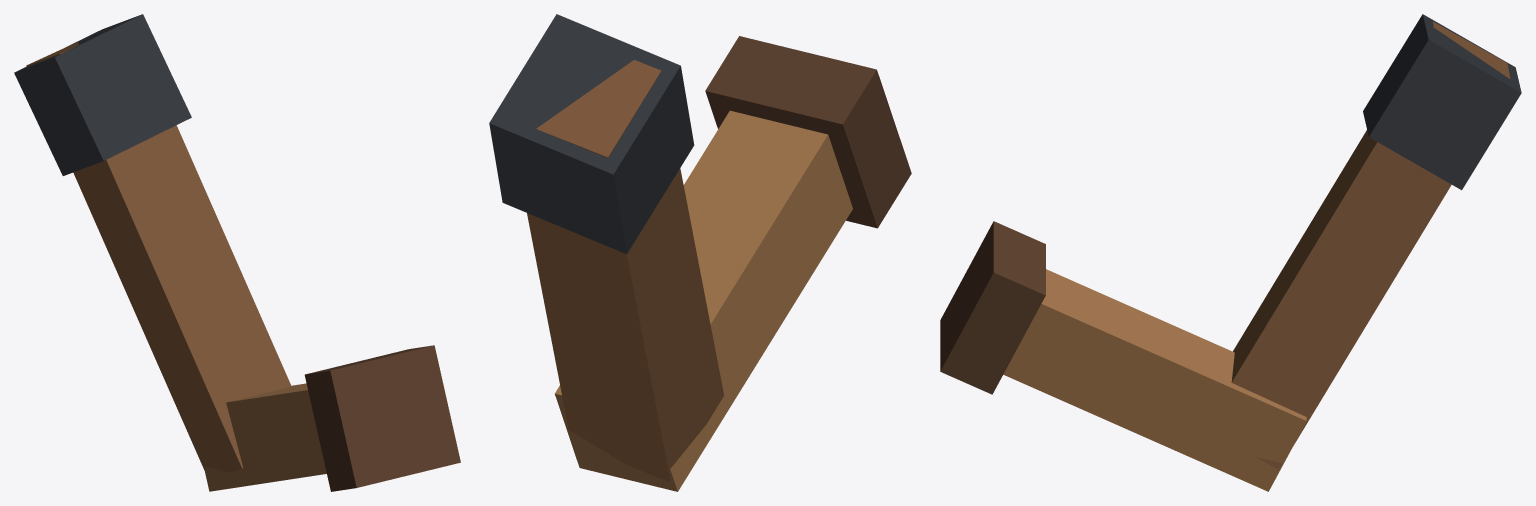
File: prop_cane.glb
3 renders of one model, left to right at view 1: azimuth 30°, elevation 25°; view 2: azimuth 150°, elevation 25°; view 3: azimuth 270°, elevation 25°, orthographic. The views are drawn at different scales.
Visible parts, largest first — view 1: prop_cane; view 2: prop_cane; view 3: prop_cane.
Boxes of the visible parts, box(x1,y1,x2,y2) form: prop_cane: box(14, 14, 460, 491); prop_cane: box(489, 14, 911, 491); prop_cane: box(940, 14, 1521, 491).
Size of the model in its own units: 0.0338 by 0.0802 by 0.1002.
1 material, 1 textured.
